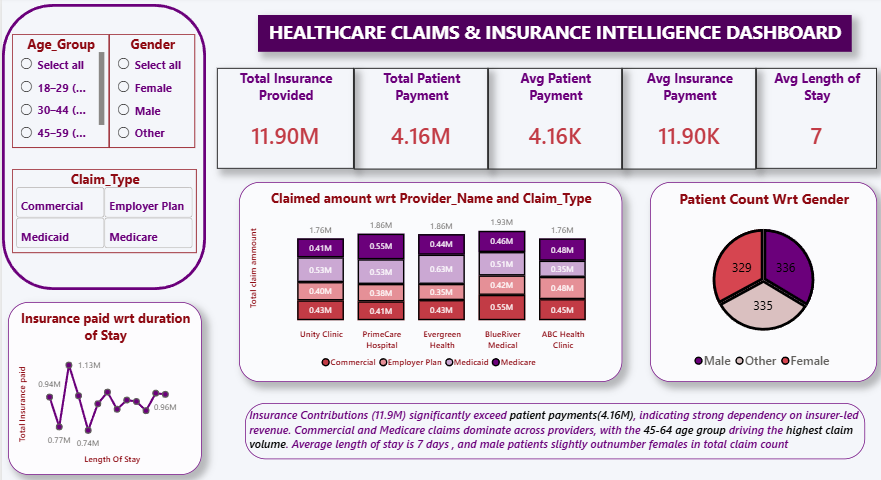

What the dashboard file says about the page in this screenshot:
{"tool":"powerbi","page":{"name":"Overview","canvas":[1280,720],"ordinal":0},"visuals":[{"type":"cardVisual","title":"Total Insurance Provided","fields":{"Data":["healthcare.Total Insurance paid"]},"box":[309.6,102.2,197.3,145.4],"z":1000},{"type":"cardVisual","title":"Total Patient Payment","fields":{"Data":["healthcare.total patient payment"]},"box":[506.2,102.3,193.3,145.7],"z":2000},{"type":"columnChart","title":" Claimed amount wrt Provider_Name and Claim_Type","fields":{"Category":["healthcare.Provider_Name"],"Y":["healthcare.Total claim ammount"],"Series":["healthcare.Claim_Type"]},"box":[341.3,266.4,551.5,288],"z":3000},{"type":"pieChart","title":"Patient Count Wrt Gender","fields":{"Category":["healthcare.Gender"],"Y":["CountNonNull(healthcare.Patient_ID)"]},"box":[933.1,266.4,326.9,288],"z":4000},{"type":"lineChart","title":" Insurance paid wrt duration of Stay ","fields":{"Category":["healthcare.LengthOfStay"],"Y":["healthcare.Total Insurance paid"]},"box":[8.6,439.2,279.4,249.1],"z":5000},{"type":"cardVisual","title":"Avg Patient Payment","fields":{"Data":["healthcare.avg patient payment"]},"box":[699.6,102.3,193.3,145.7],"z":6000},{"type":"cardVisual","title":"Avg Insurance Payment","fields":{"Data":["healthcare.avg insurance amount"]},"box":[892.9,102.3,193.3,145.7],"z":7000},{"type":"cardVisual","title":"Avg Length of Stay","fields":{"Data":["healthcare.avg Length of stay"]},"box":[1085.8,102.2,174.2,145.4],"z":8000},{"type":"textbox","box":[349.9,584.6,892.8,80.6],"z":9000},{"type":"listSlicer","fields":{"Values":["healthcare.Age_Group"]},"box":[14.4,53.3,139.7,164.2],"z":10000},{"type":"listSlicer","fields":{"Values":["healthcare.Gender"]},"box":[154.1,53.3,123.8,164.2],"z":11000},{"type":"advancedSlicerVisual","fields":{"Values":["healthcare.Claim_Type"]},"box":[14.4,247.7,266.4,121],"z":12000},{"type":"textbox","box":[368.6,25.9,855.4,53.3],"z":13000},{"type":"shape","box":[0,10.1,293.8,411.8],"z":14000}]}

Visuals, with their boxes on the page's 1280x720 design canvas (x1, y1, x2, y2). These are canvas units, not pixel positions in the 881x480 screenshot, which may show the page scaled, cropped or inside an application window:
"Total Insurance Provided" cardVisual: [310,102,507,248]
"Total Patient Payment" cardVisual: [506,102,700,248]
" Claimed amount wrt Provider_Name and Claim_Type" columnChart: [341,266,893,554]
"Patient Count Wrt Gender" pieChart: [933,266,1260,554]
" Insurance paid wrt duration of Stay " lineChart: [9,439,288,688]
"Avg Patient Payment" cardVisual: [700,102,893,248]
"Avg Insurance Payment" cardVisual: [893,102,1086,248]
"Avg Length of Stay" cardVisual: [1086,102,1260,248]
textbox: [350,585,1243,665]
listSlicer - healthcare.Age_Group: [14,53,154,218]
listSlicer - healthcare.Gender: [154,53,278,218]
advancedSlicerVisual - healthcare.Claim_Type: [14,248,281,369]
textbox: [369,26,1224,79]
shape: [0,10,294,422]
